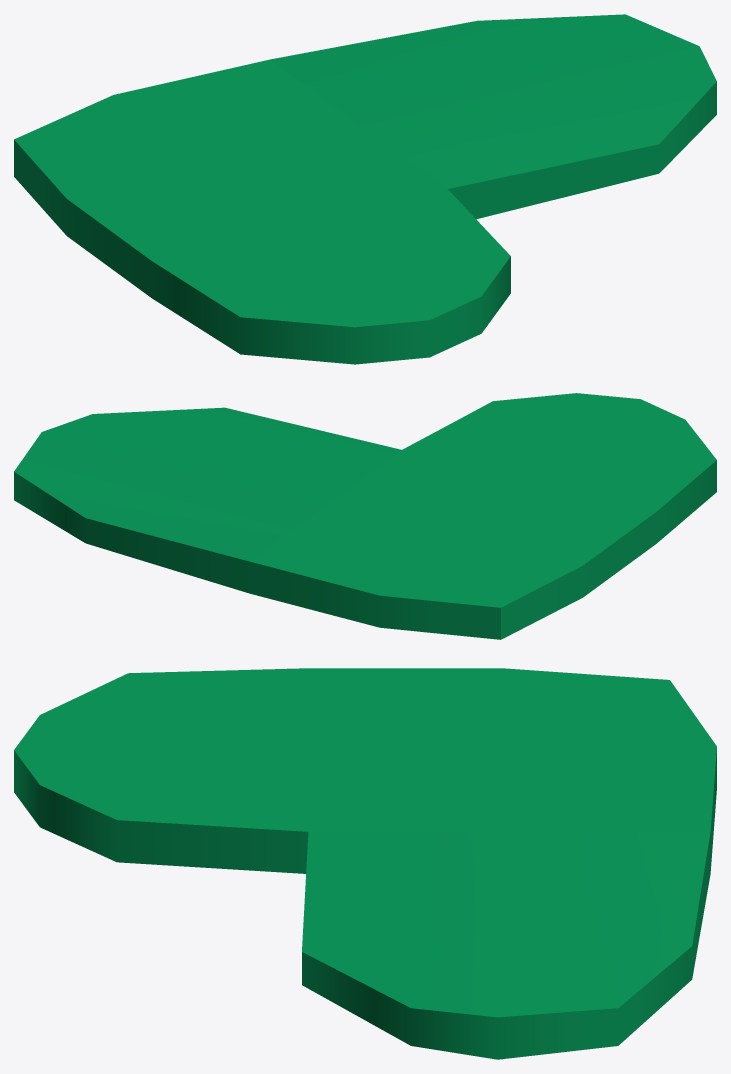
File: Green01.fbx
3 renders of one model, top to bottom at view 1: azimuth 30°, elevation 25°; view 2: azimuth 150°, elevation 25°; view 3: azimuth 270°, elevation 25°, orthographic. The views are drawn at different scales.
Visible parts, largest first — view 1: pCube1; view 2: pCube1; view 3: pCube1.
Boxes of the visible parts, bbox=[...] form: pCube1: bbox=[14, 14, 716, 364]; pCube1: bbox=[14, 393, 716, 639]; pCube1: bbox=[14, 668, 716, 1059].
Size of the model in its own units: 25.35 by 1.43 by 21.56.
